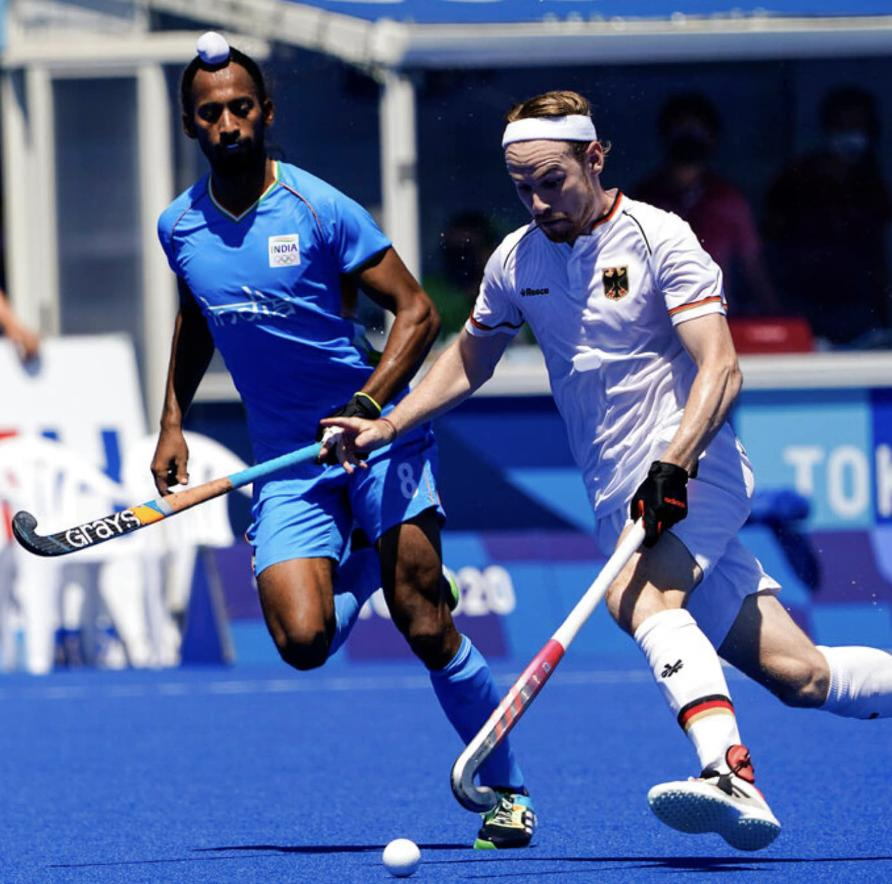ball: (377, 825, 432, 880)
